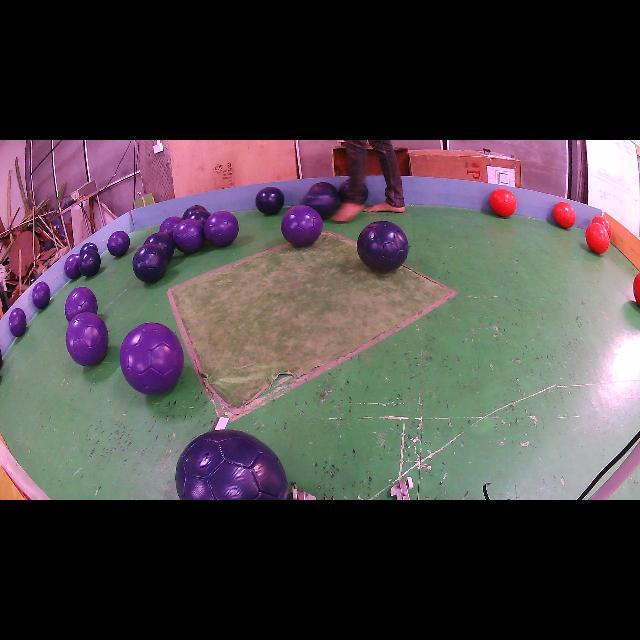B: (175, 430, 288, 500), (358, 221, 409, 271), (132, 244, 168, 282), (144, 231, 175, 262), (255, 186, 285, 215), (79, 250, 101, 277), (188, 210, 211, 225), (182, 205, 206, 219), (79, 242, 98, 255)
P: (120, 322, 184, 395), (66, 312, 109, 366), (281, 205, 322, 247), (204, 210, 239, 246), (65, 286, 98, 321), (172, 219, 204, 254), (108, 230, 130, 256), (32, 281, 50, 309), (9, 308, 26, 336), (159, 216, 182, 236), (64, 254, 81, 279)
R: (585, 222, 610, 254), (490, 189, 516, 216), (554, 201, 576, 229), (592, 216, 611, 237), (634, 272, 640, 304)
